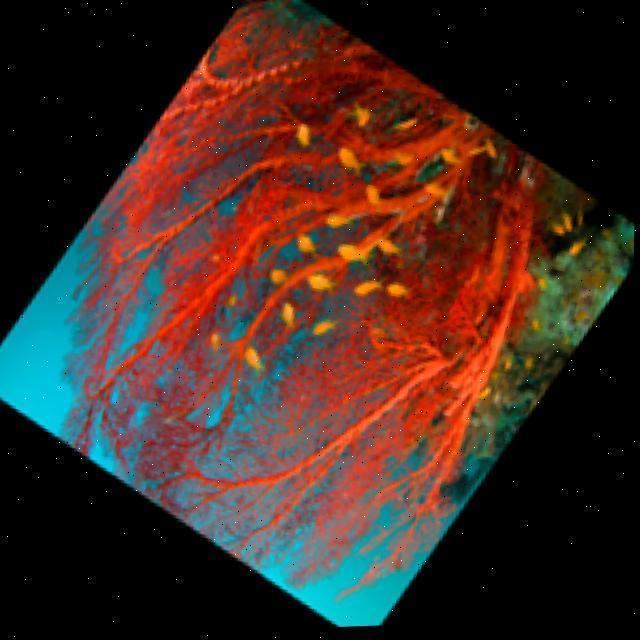Healthy Coral: (65, 42, 578, 600)
